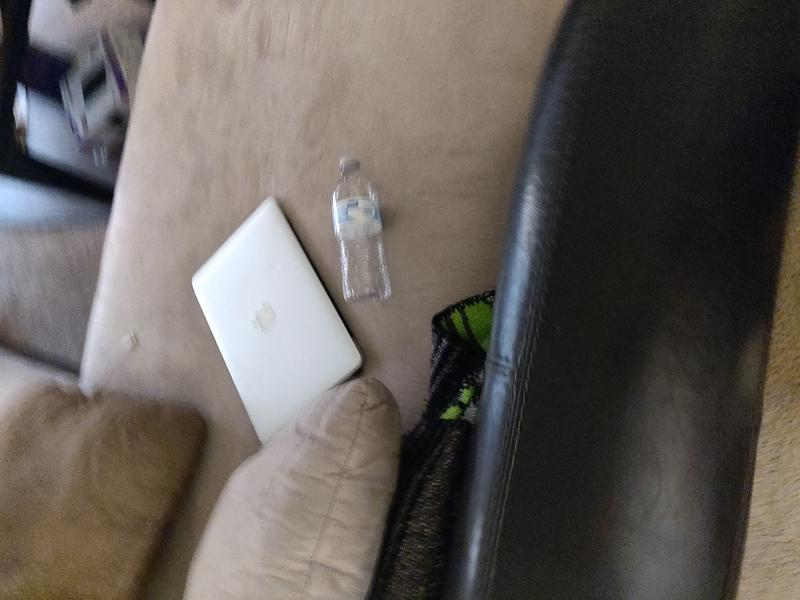bottle: (331, 151, 394, 305)
